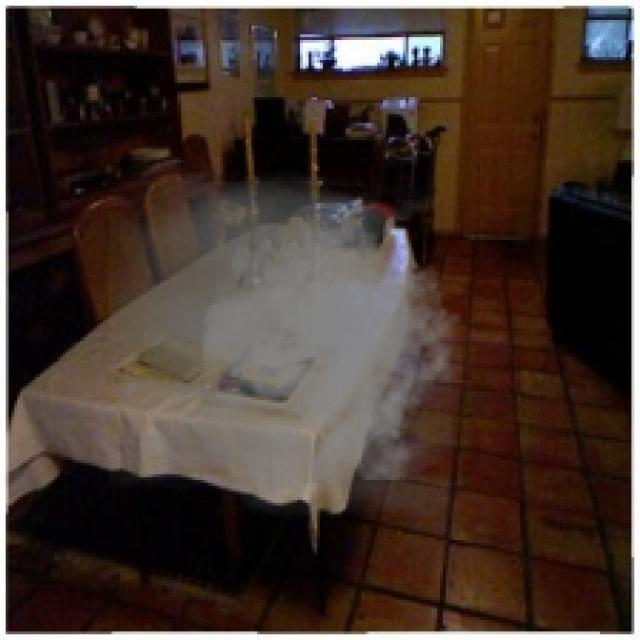Smoke: (108, 172, 463, 517)
